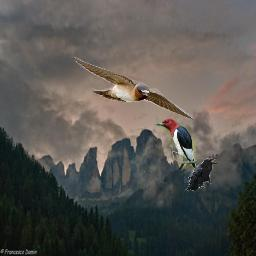Crow: (184, 158, 217, 192)
Swallow: (68, 54, 196, 120)
Woodpecker: (155, 118, 196, 169)
